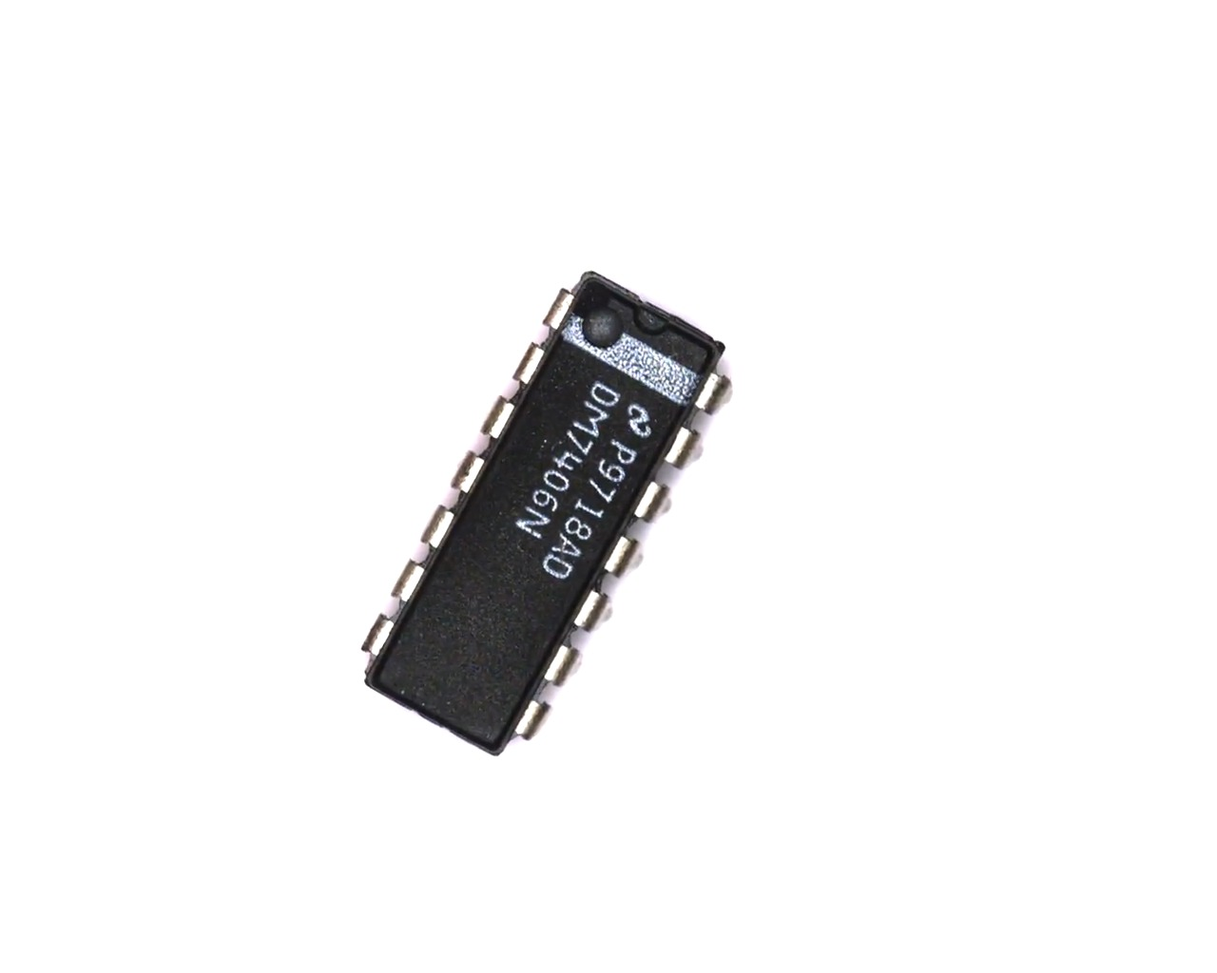IC: (335, 252, 769, 781)
notch: (625, 299, 679, 342)
